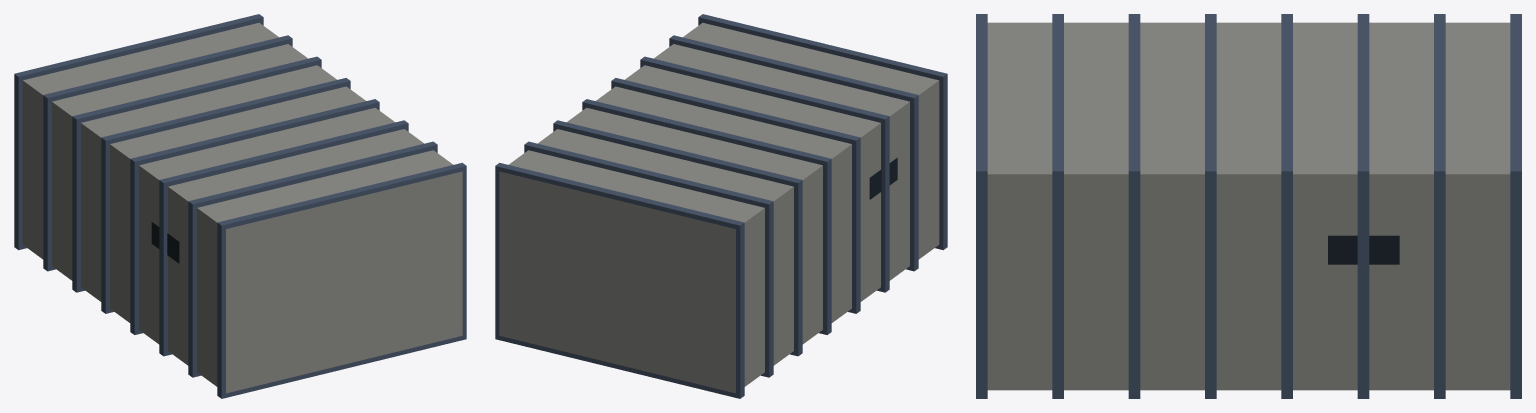
The model's file is kz6_cell.obj.
3 views of the same model, side by side, from view 1: azimuth 30°, elevation 25°; view 2: azimuth 150°, elevation 25°; view 3: azimuth 270°, elevation 25° (orthographic). The views are drawn at different scales.
Visible parts, largest first — view 1: kz6_cell; view 2: kz6_cell; view 3: kz6_cell.
Boxes of the visible parts, box(x1,y1,x2,y2) form: kz6_cell: box(14, 14, 466, 398); kz6_cell: box(495, 14, 947, 398); kz6_cell: box(976, 14, 1521, 398).
Size of the model in its own units: 2.59 by 1.75 by 3.8.
